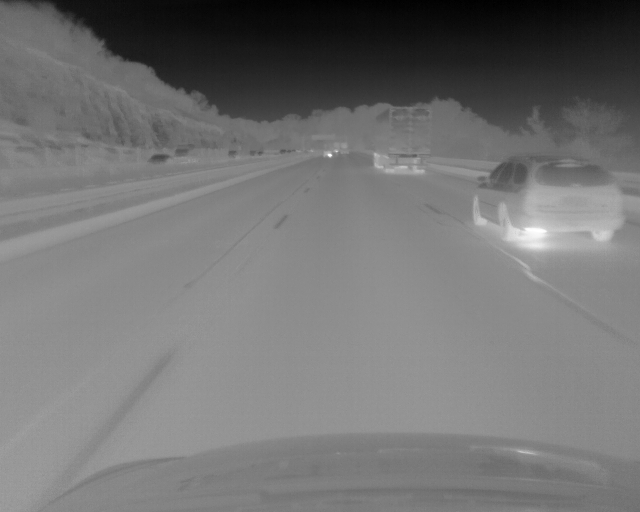car: (469, 155, 624, 243), (369, 109, 434, 174), (147, 154, 174, 165)
